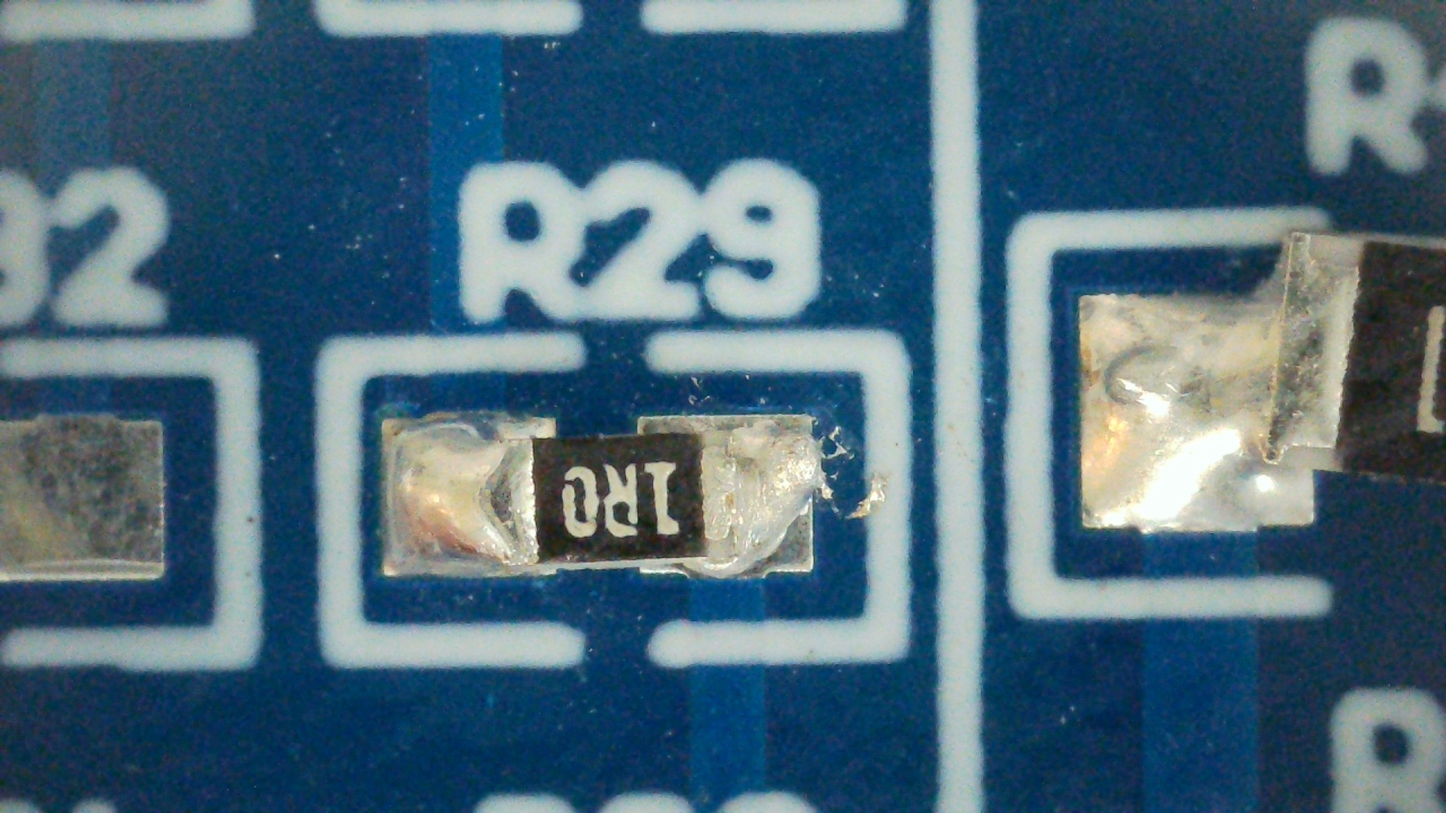OK: (383, 412, 817, 579)
